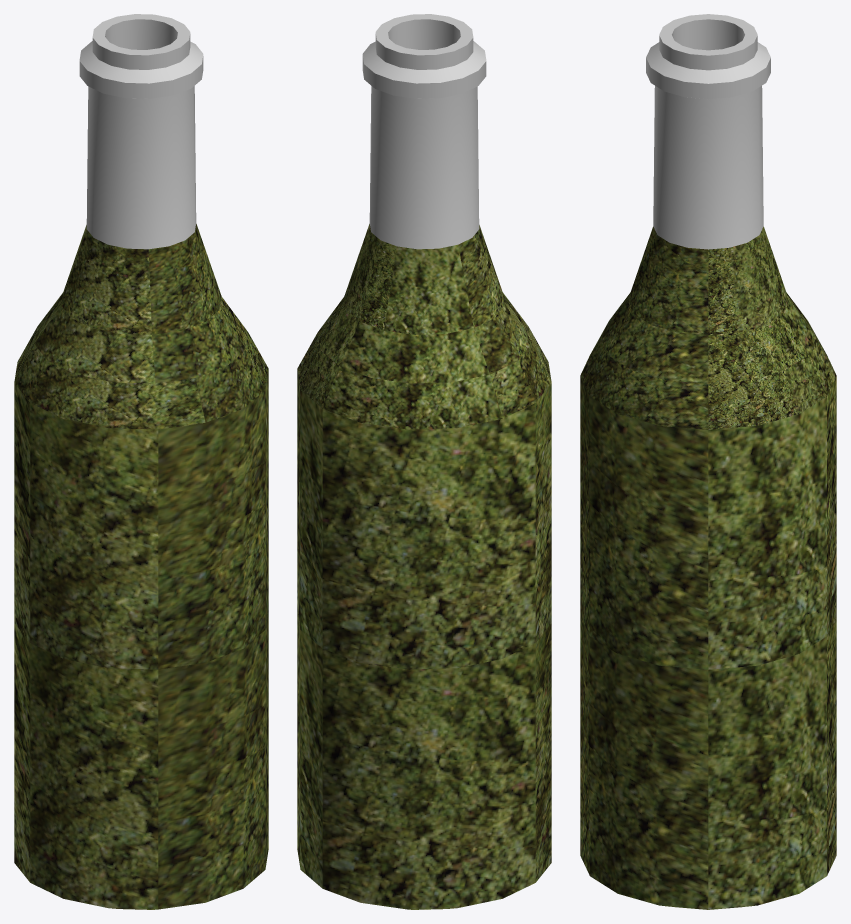
Rendered from Molotov.dae.
3 views of the same model, side by side, from view 1: azimuth 30°, elevation 25°; view 2: azimuth 150°, elevation 25°; view 3: azimuth 270°, elevation 25° (orthographic).
Visible parts, largest first — view 1: Cylinder; view 2: Cylinder; view 3: Cylinder.
Part boxes in pixels (<box>): Cylinder: <box>14,14,268,909</box>; Cylinder: <box>297,14,551,909</box>; Cylinder: <box>580,14,836,909</box>.
Bounding box in the file's own units: 1.15 × 1.15 × 4.14.
Materials: 2 (1 with a texture image).
